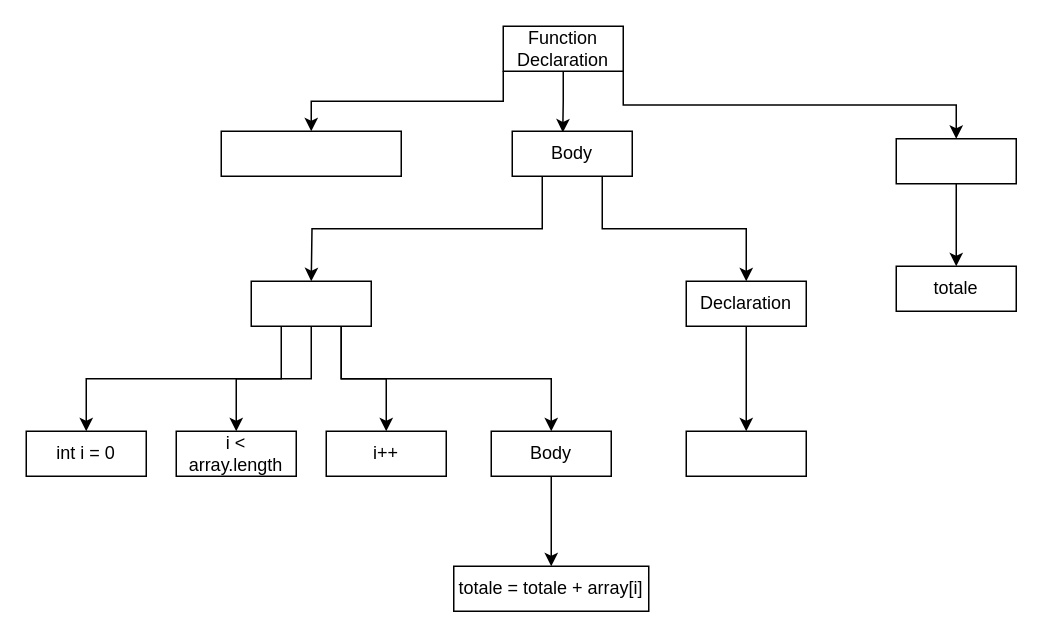
Image size: 1043x638. Some labels were removed from this diagram. The shapes that lost their labels are listed below. From the top down, each one's centre as x and y in pixels, then its label:
At (x=310, y=153): "void foo(int[] array)".
At (x=955, y=160): "Return".
At (x=310, y=303): "for".
At (x=745, y=453): "int totale = 0".
